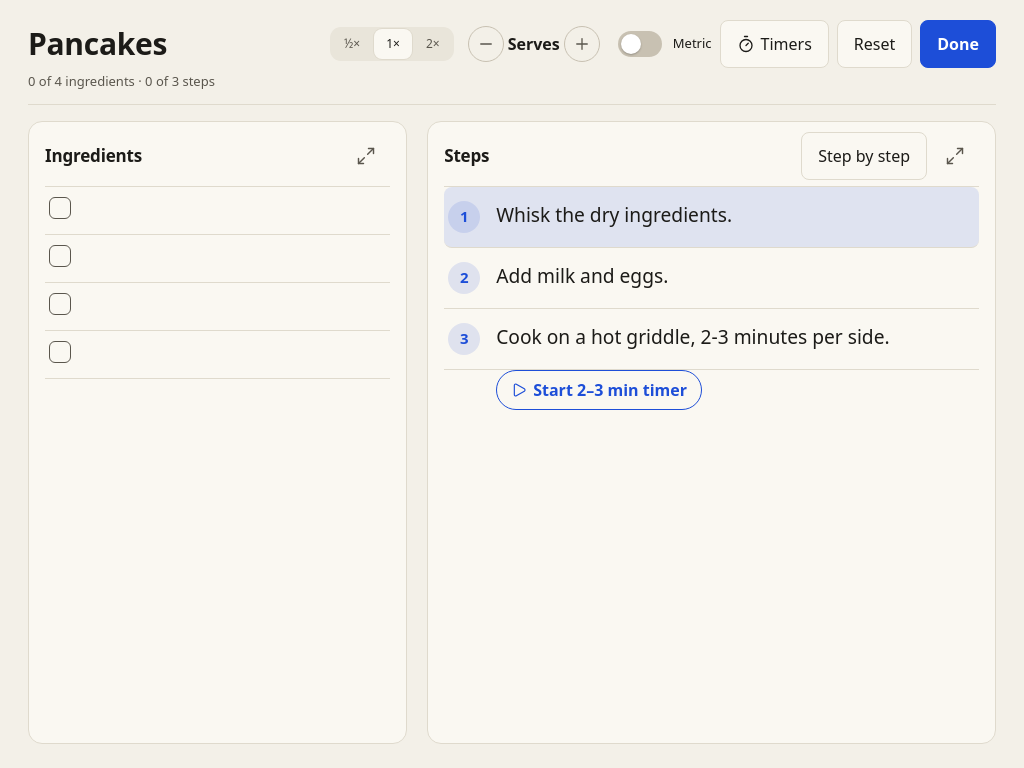
Test: CookingView › shows every step to start, with Step by step as a choice
Click the button "Step by step": [864, 156] box [801, 132, 927, 180]
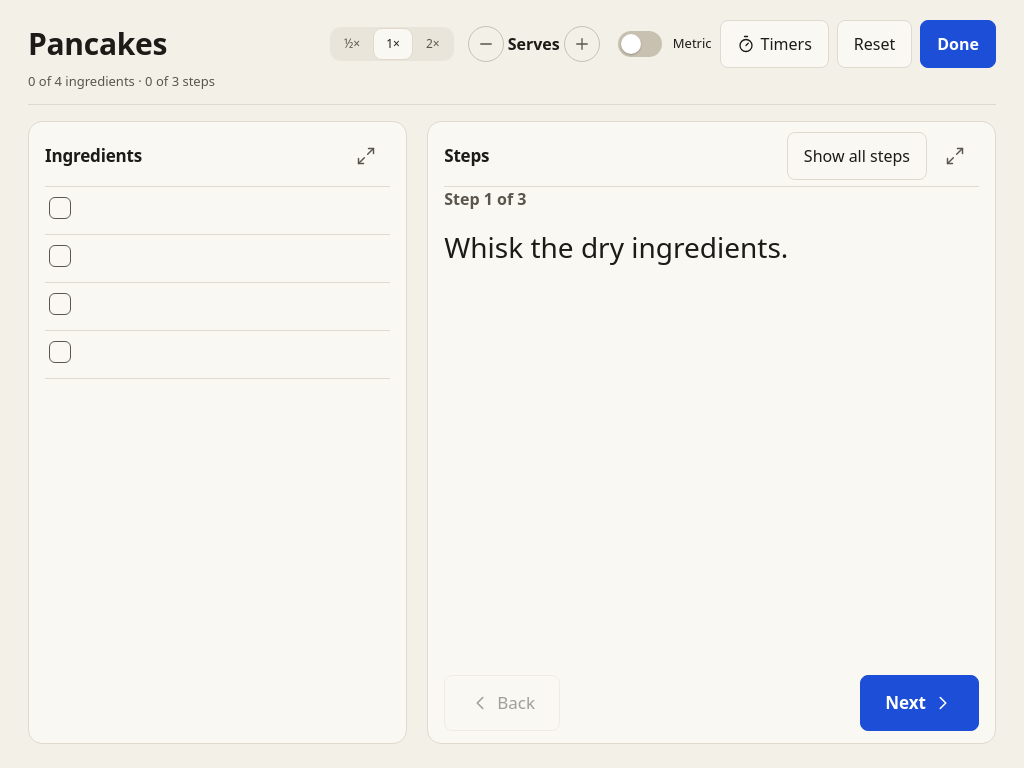
Check: the text "Step 1 of 3" is shown, box [444, 188, 526, 210]
